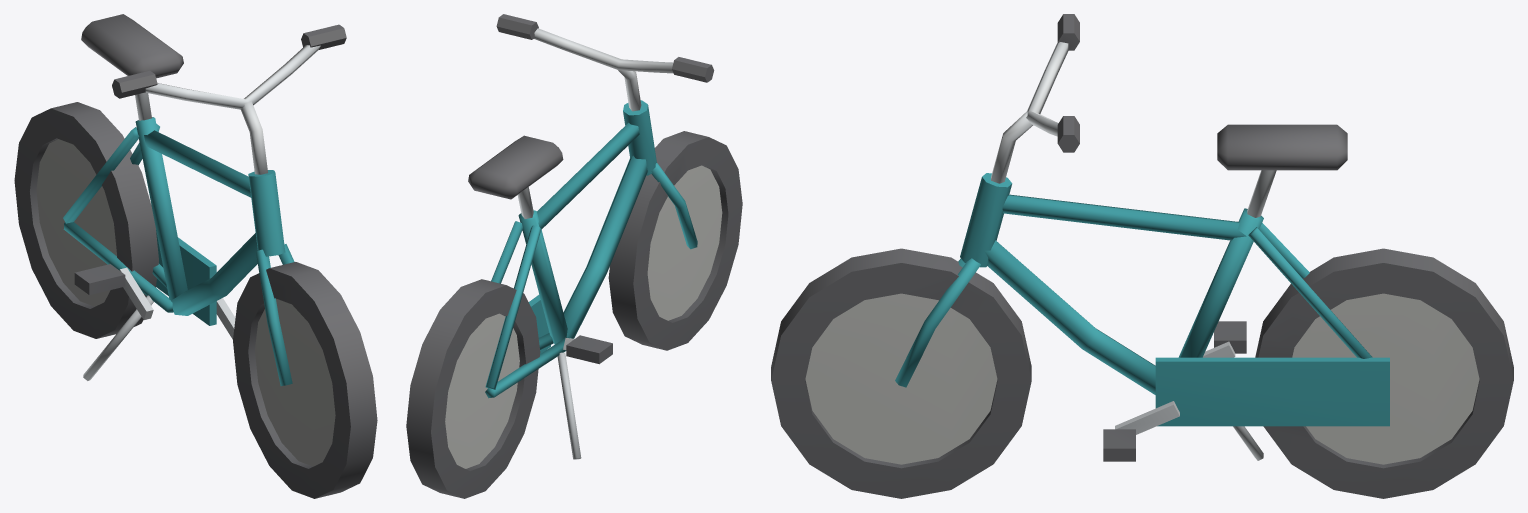
File: kids_bike.glb
The picture shows the model from 3 angles, left to right: view 1: azimuth 30°, elevation 25°; view 2: azimuth 150°, elevation 25°; view 3: azimuth 270°, elevation 25°; orthographic projection. The views are drawn at different scales.
Visible parts, largest first — view 1: suburb_kids_bike; view 2: suburb_kids_bike; view 3: suburb_kids_bike.
Part boxes in pixels (left/top/right/bottom): suburb_kids_bike: left=14, top=14, right=377, bottom=498; suburb_kids_bike: left=406, top=14, right=742, bottom=498; suburb_kids_bike: left=771, top=14, right=1513, bottom=498.
Size of the model in its own units: 0.44 by 0.7067 by 1.14.
